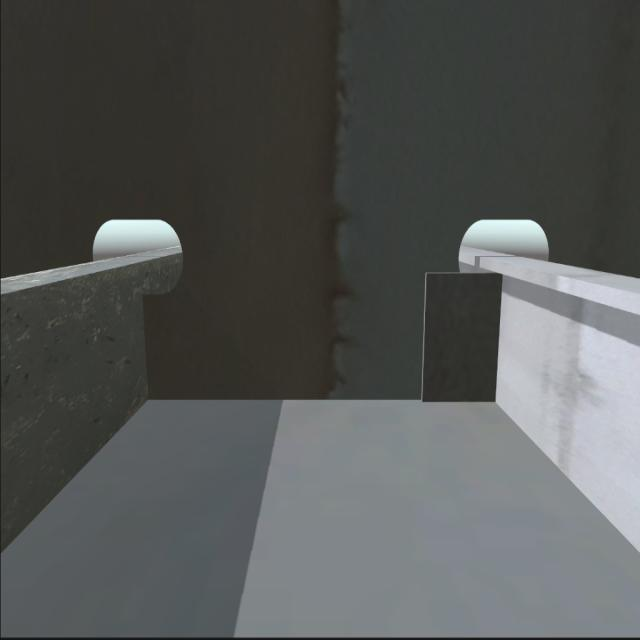fillet_yong_jeop_jang: (148, 392, 496, 409)
longi_yong_jeop_jang: (136, 296, 156, 400), (492, 273, 506, 401)
plate_CP01: (426, 271, 508, 396)
